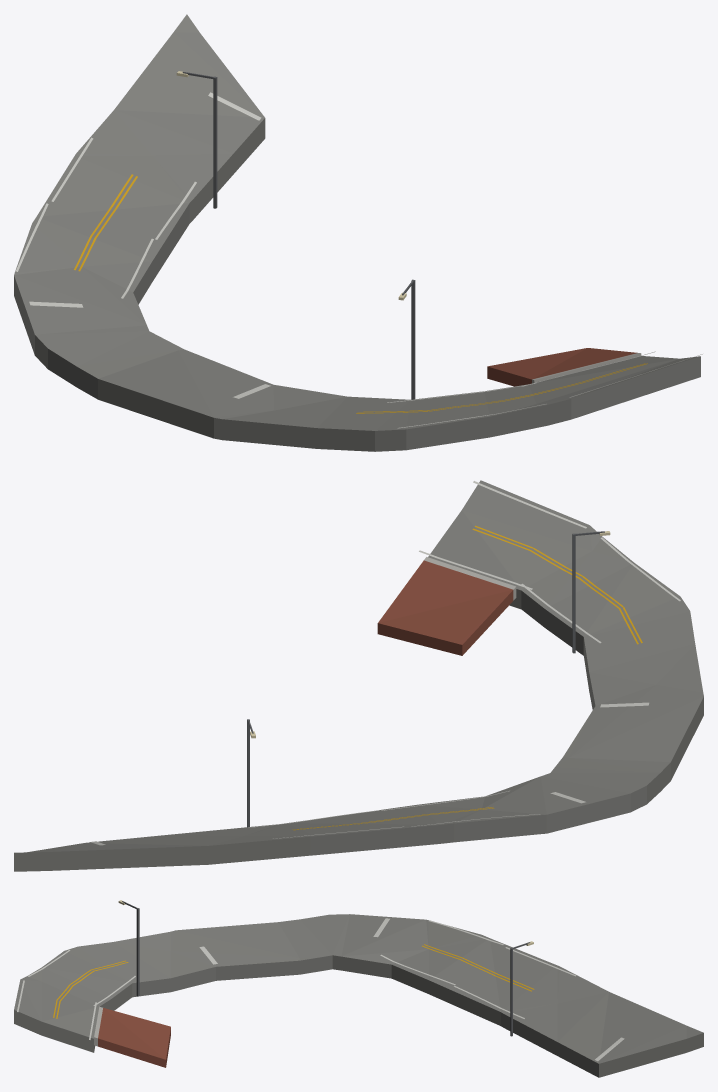
Rendered from 16-54740-29745.5beba650.glb.
The picture shows the model from 3 angles, top to bottom: view 1: azimuth 30°, elevation 25°; view 2: azimuth 150°, elevation 25°; view 3: azimuth 270°, elevation 25°; orthographic projection. The views are drawn at different scales.
Size of the model in its own units: 25.82 by 9.03 by 53.52.
